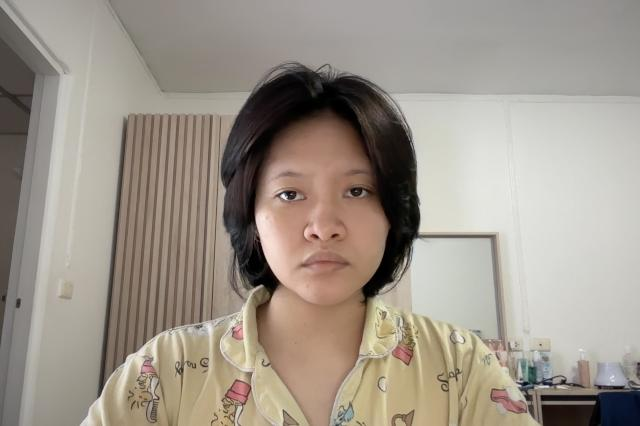fokus: (251, 108, 392, 307)
